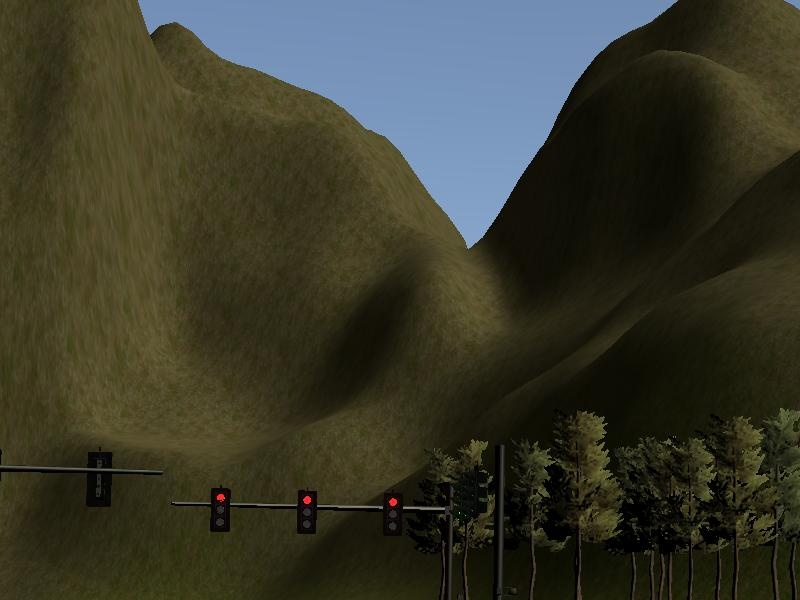red: (384, 493, 405, 538), (211, 488, 232, 533), (298, 491, 318, 535)
